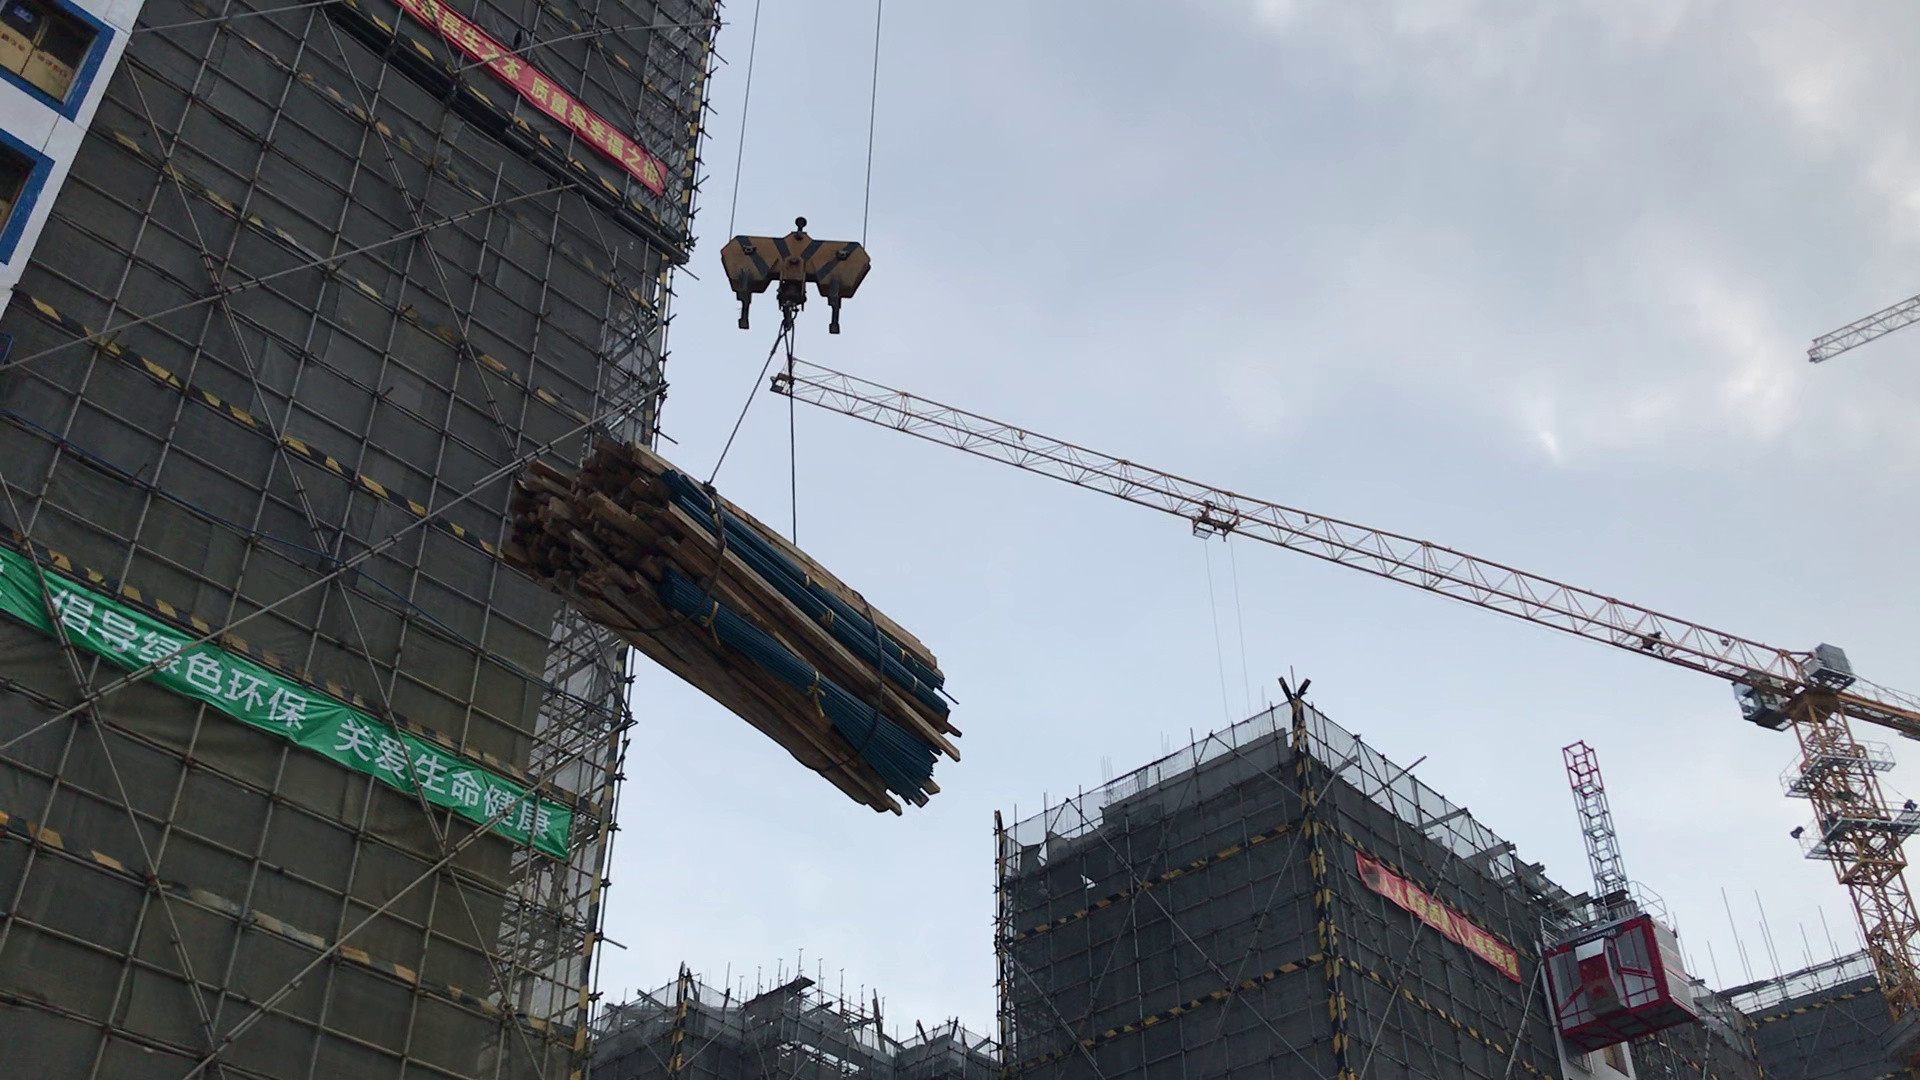hook: (694, 200, 887, 363)
slogan: (1, 535, 584, 905), (384, 1, 688, 208), (1341, 843, 1534, 992)
wood: (495, 423, 992, 833)
